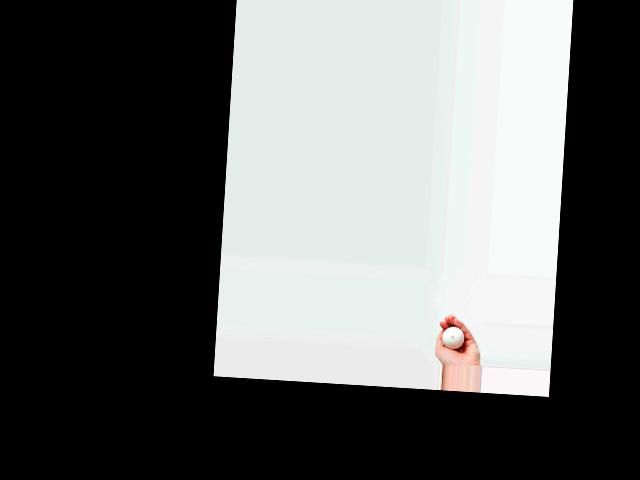egg: (442, 325, 465, 349)
